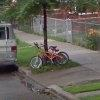Bicycle: (26, 38, 75, 77)
